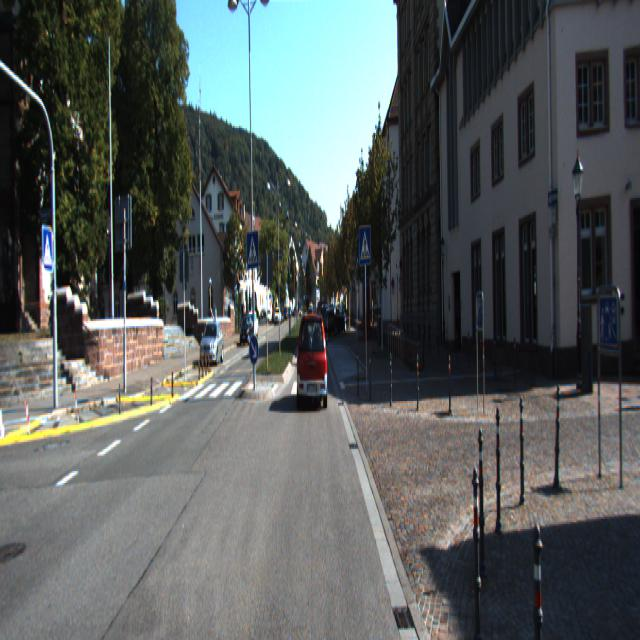Car: (298, 313, 329, 411), (198, 320, 225, 364), (327, 306, 348, 336), (240, 318, 254, 347)
